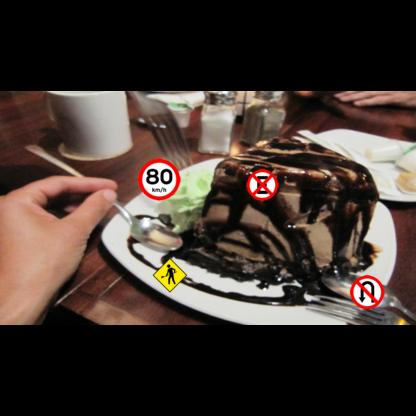A-24: (153, 258, 187, 292)
R-19: (138, 159, 180, 201)
R-5a: (350, 275, 384, 309)
R-6c: (246, 169, 278, 201)
